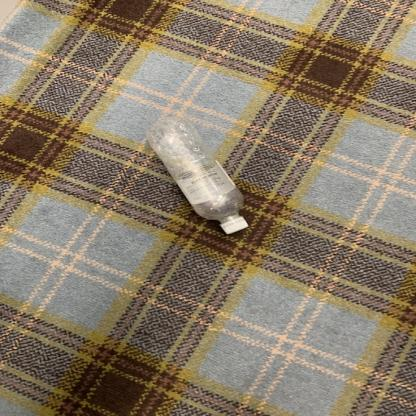trash: (146, 117, 255, 240)
